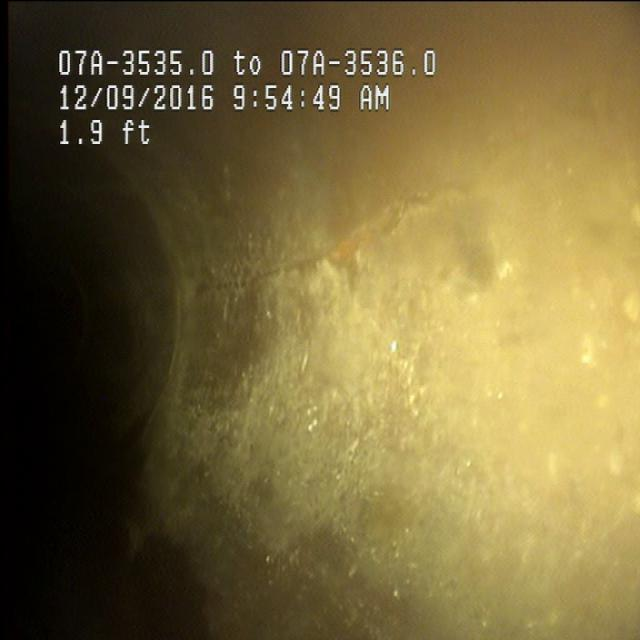Crack: (190, 161, 550, 309)
